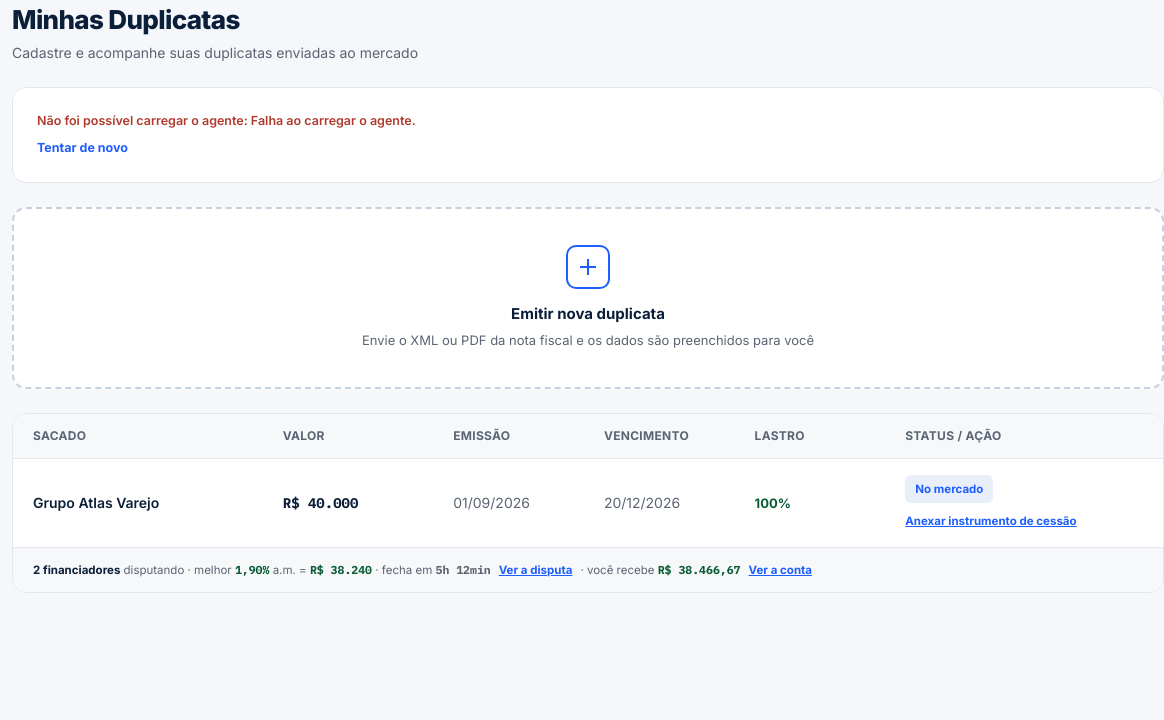
it: MinhasPage — o leilão da própria duplicata › a escada abre com quem está lançando e sob qual veículo
This screenshot has width=1164, height=720.
Expected: the text "Fundo Bandeirantes" is not shown
Click the button "Ver a disputa". click: (536, 570)
box: x1=499 y1=560 x2=572 y2=580
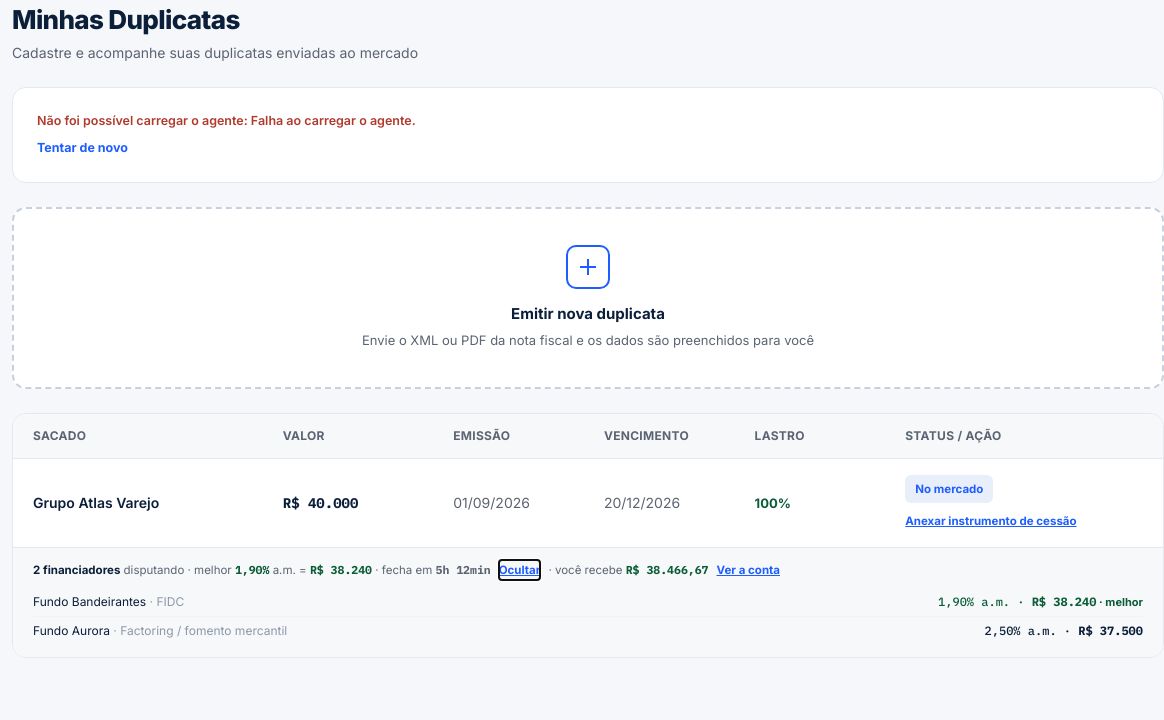
Now the text "Fundo Bandeirantes" is shown, box x1=33 y1=594 x2=146 y2=608
Now the text "Fundo Aurora" is shown, box x1=33 y1=622 x2=110 y2=638
Now the text "· FIDC" is shown, box x1=146 y1=594 x2=184 y2=608
